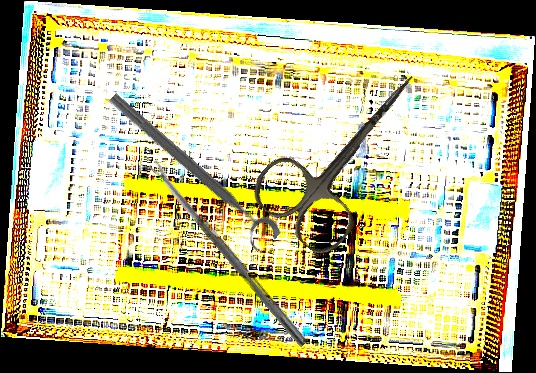Fixation Ring: (96, 87, 284, 258)
Iris Scissors: (244, 43, 454, 262)
Surgical Spoon: (148, 159, 310, 348)
